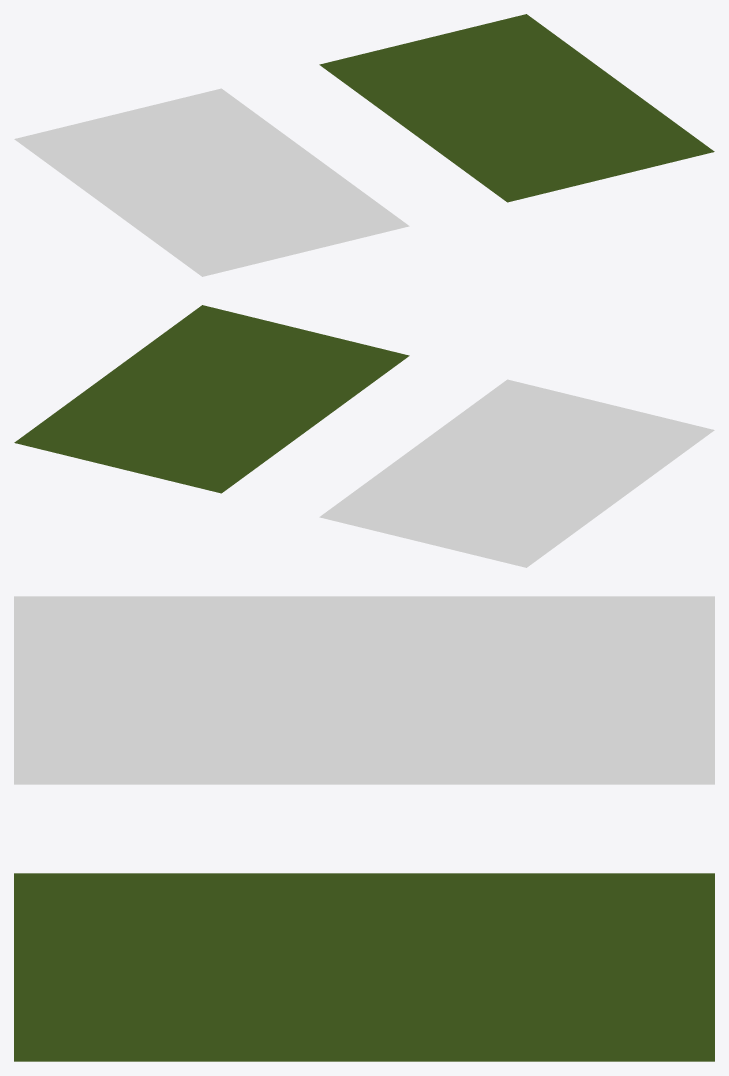
Rendered from grass.fbx.
The picture shows the model from 3 angles, top to bottom: view 1: azimuth 30°, elevation 25°; view 2: azimuth 150°, elevation 25°; view 3: azimuth 270°, elevation 25°; orthographic projection. The views are drawn at different scales.
Visible parts, largest first — view 1: Plane, Plane.001; view 2: Plane, Plane.001; view 3: Plane, Plane.001.
Boxes of the visible parts, x1,y1,x2,y2 form: Plane: [319, 14, 714, 202]; Plane.001: [14, 88, 409, 276]; Plane: [14, 305, 409, 493]; Plane.001: [319, 379, 714, 567]; Plane: [14, 873, 714, 1061]; Plane.001: [14, 596, 714, 784].
Size of the model in its own units: 3457 by 0.000358 by 2200.
